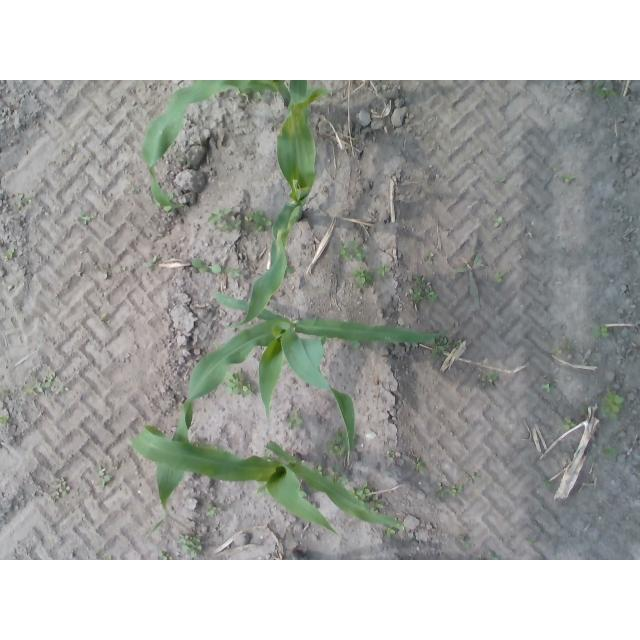Maize: (147, 290, 443, 534), (136, 425, 405, 536), (229, 88, 332, 328), (142, 80, 310, 209), (291, 548, 305, 560)
Weeds: (454, 255, 486, 307), (208, 206, 241, 230), (227, 371, 249, 396), (604, 392, 625, 418), (415, 279, 438, 302), (193, 258, 224, 275), (182, 535, 203, 558), (341, 243, 363, 262), (326, 433, 345, 455), (594, 81, 616, 99), (351, 269, 374, 286), (248, 213, 268, 231), (286, 414, 302, 430), (556, 338, 573, 353), (479, 373, 498, 385), (357, 485, 372, 498), (25, 382, 42, 393), (408, 290, 422, 303), (145, 257, 160, 268), (225, 268, 240, 278), (46, 373, 56, 388), (55, 478, 67, 490), (17, 193, 27, 207), (594, 325, 608, 335), (4, 247, 14, 261), (371, 497, 383, 508), (432, 347, 445, 357), (379, 264, 389, 276), (206, 504, 216, 516), (492, 272, 503, 282), (102, 476, 111, 488), (603, 447, 618, 454), (565, 419, 575, 429), (448, 485, 458, 495), (413, 458, 423, 468), (437, 337, 449, 345), (494, 217, 503, 226), (340, 475, 349, 483), (563, 177, 573, 184), (99, 467, 106, 477), (161, 553, 171, 560), (0, 416, 8, 424), (427, 252, 434, 261), (542, 383, 551, 390), (83, 218, 91, 225), (437, 482, 444, 490), (316, 467, 324, 474), (387, 529, 396, 535), (468, 473, 476, 479)
